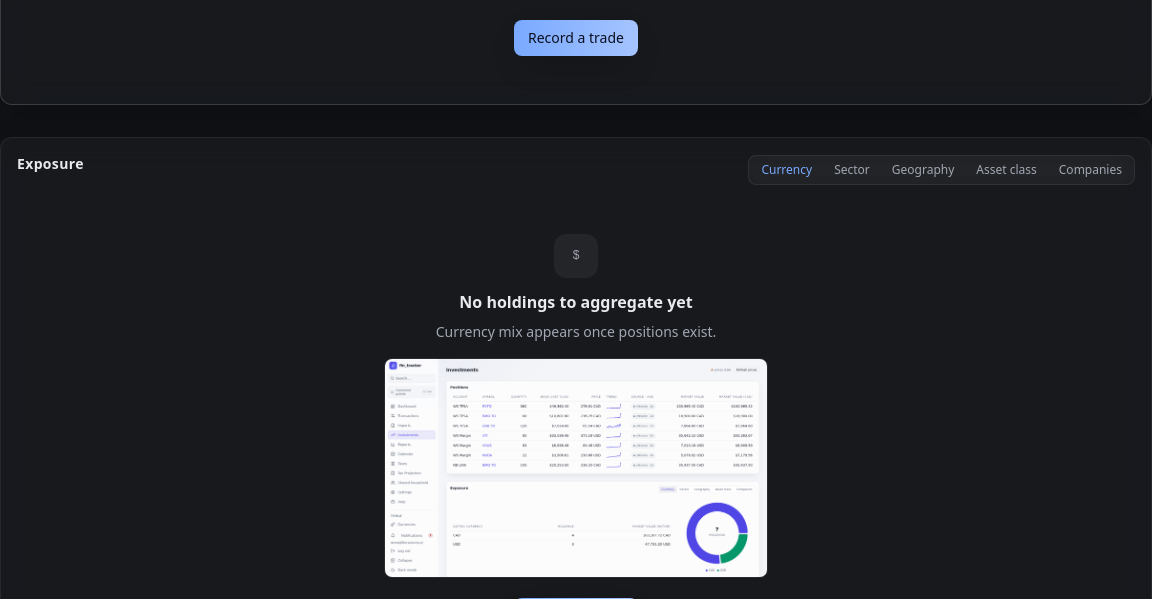
Test: M147 — the Unclassified honesty copy › names each not-yet-imported fund with its value and the Import action
(page scrolled)
Click the tab "Geography": (923, 170) [882,158,964,182]
(page scrolled)
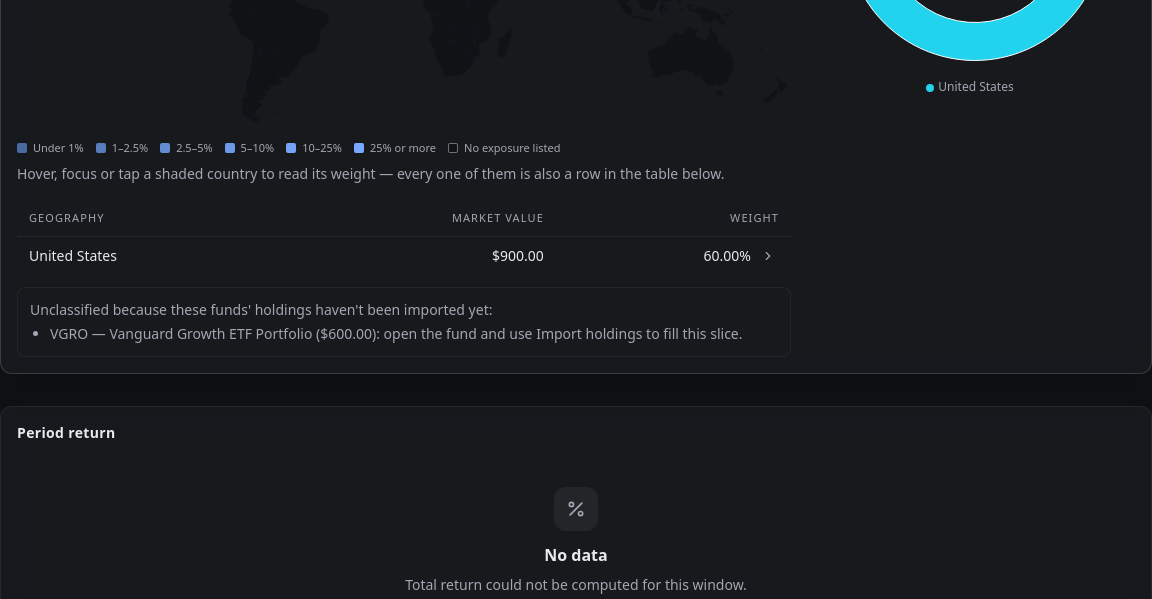
Now the element named "Exposure breakdown table" is shown, box [17,200,791,275]
Now the text "Unclassified because these funds' holdings haven't been imported yet" is shown, box [30,300,492,319]
Now the list item "VGRO — Vanguard Growth ETF Portfolio" is shown, box [50,324,778,344]
